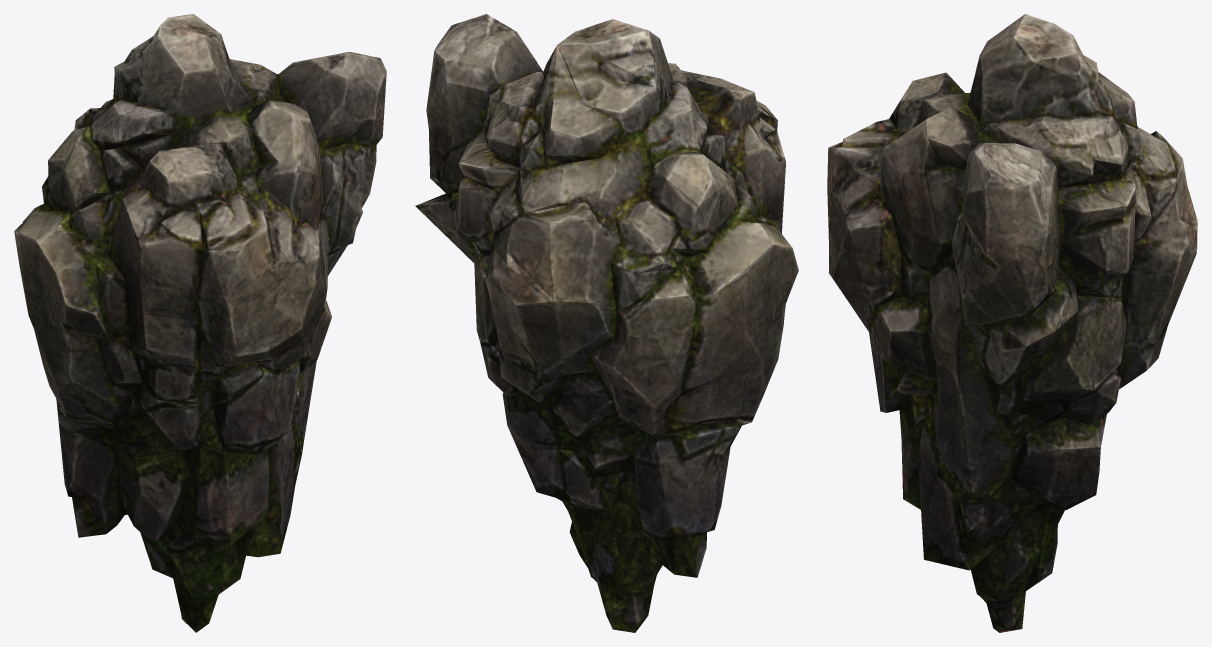
File: QYS_ys_A_01_02.FBX
The picture shows the model from 3 angles, left to right: view 1: azimuth 30°, elevation 25°; view 2: azimuth 150°, elevation 25°; view 3: azimuth 270°, elevation 25°; orthographic projection. The views are drawn at different scales.
Parts seen in each view (by area): view 1: QYS_ys_A_01_02; view 2: QYS_ys_A_01_02; view 3: QYS_ys_A_01_02.
Boxes of the visible parts, box(x1,y1,x2,y2) form: QYS_ys_A_01_02: box(14, 14, 386, 632); QYS_ys_A_01_02: box(415, 14, 798, 632); QYS_ys_A_01_02: box(827, 14, 1197, 632).
Bounding box in the file's own units: 1519 × 2601 × 1440.
